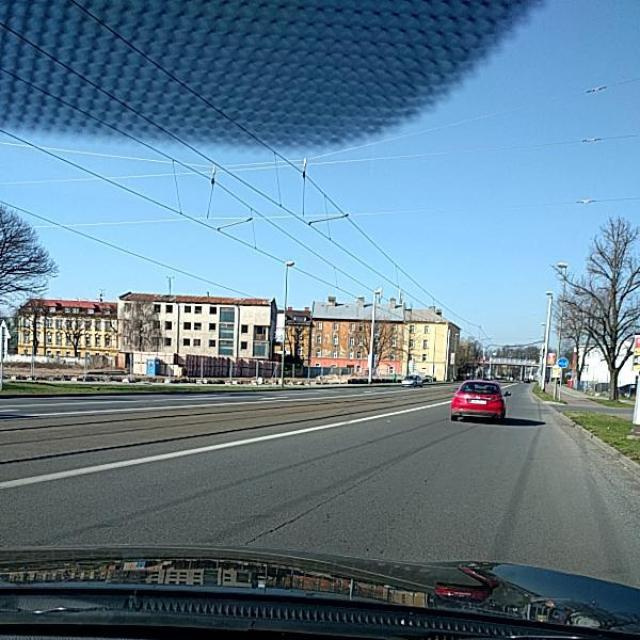Crack: (190, 436, 410, 544)
